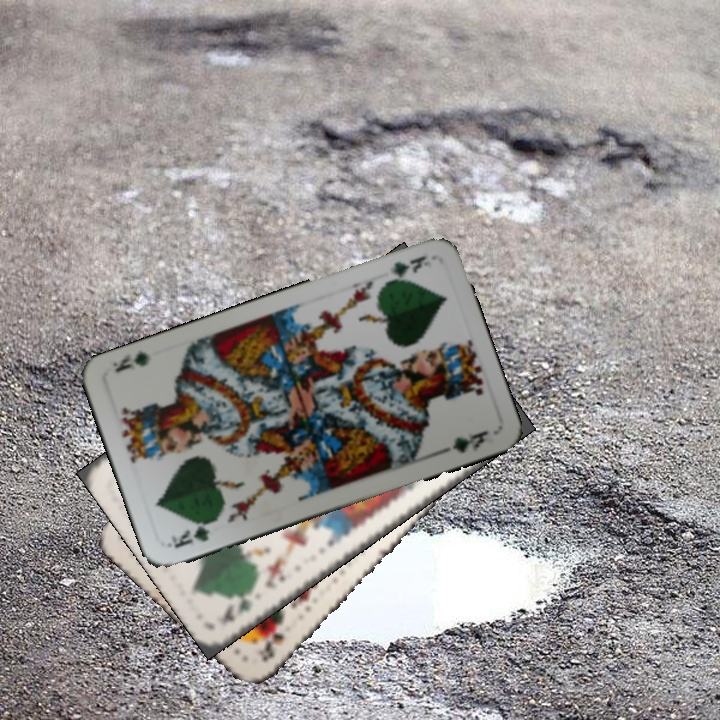GK: (381, 251, 434, 288), (216, 583, 259, 626), (165, 522, 212, 551)
SK: (255, 624, 287, 665)
